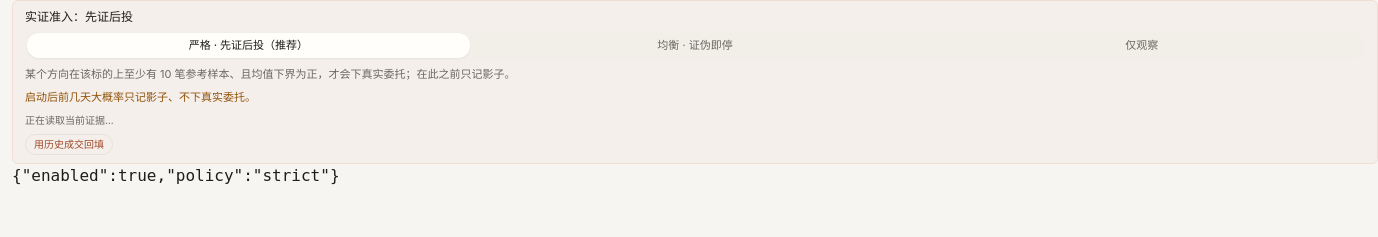
Test: EvidenceGateCard · 受控卡片 › 回填失败 ⇒ 显示后端 message
Click the button with test id "ai-evidence-backfill" at coordinates (69, 145), box [25, 134, 113, 155]
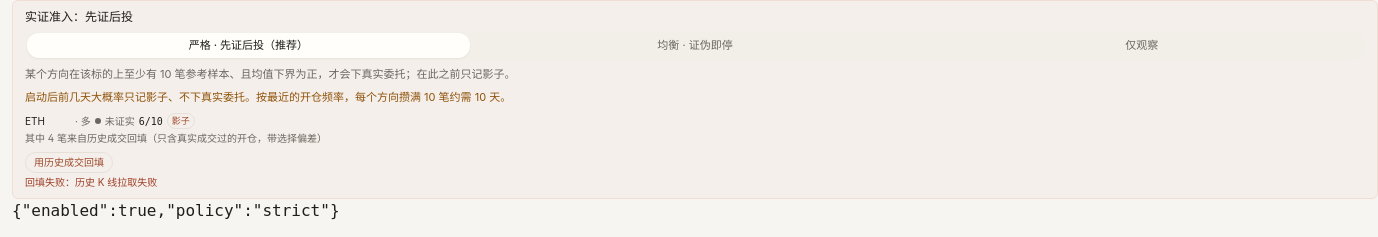
Check: the message with test id "ai-evidence-backfill-error" reads "回填失败：历史 K 线拉取失败", box [25, 176, 157, 188]
